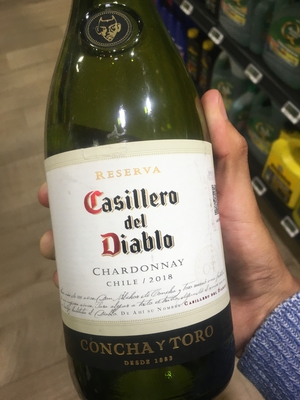casillero del diablo chardonnay: (44, 9, 228, 399)
